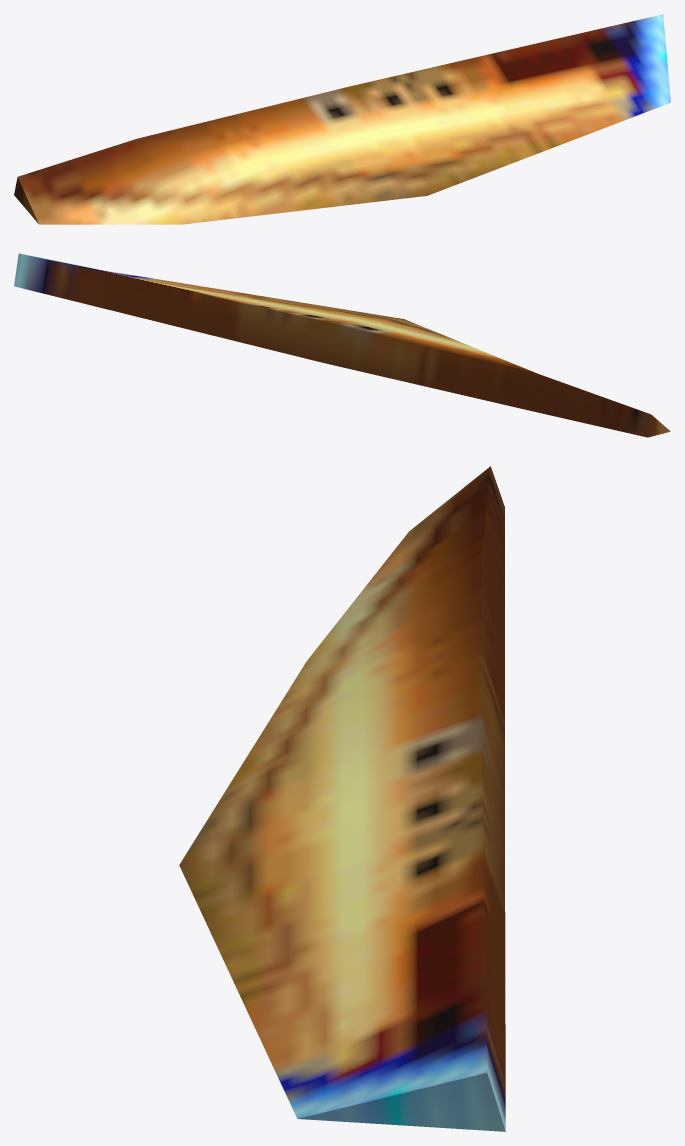
3 renders of one model, top to bottom at view 1: azimuth 30°, elevation 25°; view 2: azimuth 150°, elevation 25°; view 3: azimuth 270°, elevation 25°, orthographic. The views are drawn at different scales.
Visible parts, largest first — view 1: aw207; view 2: aw207; view 3: aw207.
Boxes of the visible parts, x1,y1,x2,y2 form: aw207: (14,14,670,224); aw207: (14,253,670,437); aw207: (179,466,505,1131).
Size of the model in its own units: 17.62 by 1.4 by 3.93.
1 material, 1 textured.
